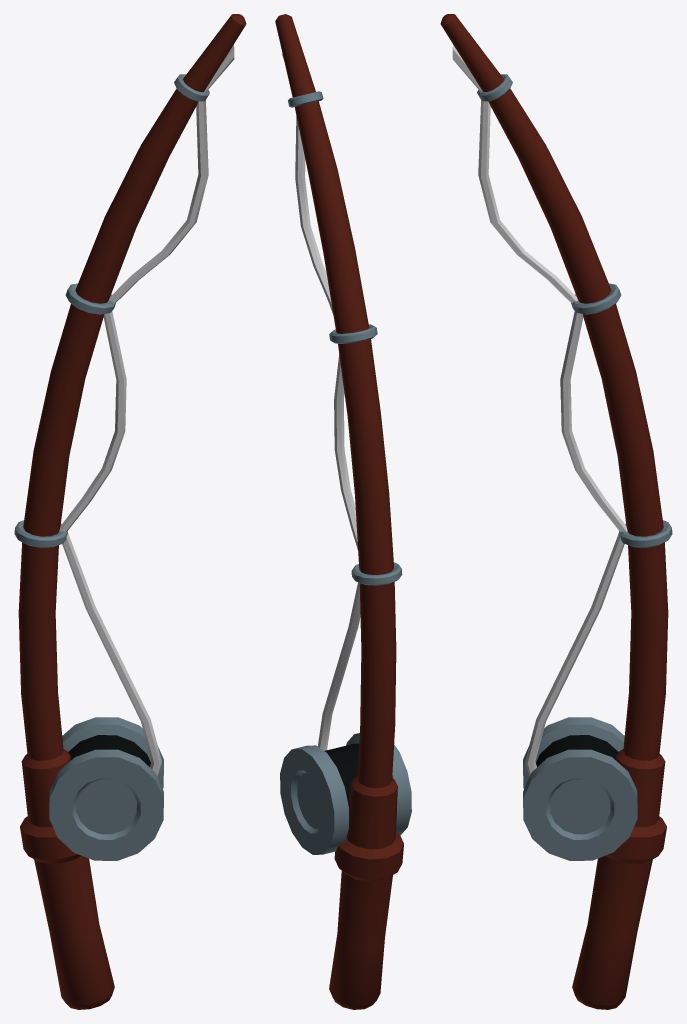
The model's file is fishingpole_rod.obj.
3 views of the same model, side by side, from view 1: azimuth 90°, elevation 25°; view 2: azimuth 210°, elevation 25°; view 3: azimuth 270°, elevation 25° (orthographic). The views are drawn at different scales.
Visible parts, largest first — view 1: fishingpole_rod_Cylinder.032; view 2: fishingpole_rod_Cylinder.032; view 3: fishingpole_rod_Cylinder.032.
Part boxes in pixels (box(x1,y1,x2,y2)): fishingpole_rod_Cylinder.032: box(14, 14, 246, 1009); fishingpole_rod_Cylinder.032: box(275, 14, 411, 1009); fishingpole_rod_Cylinder.032: box(440, 14, 672, 1009).
Bounding box in the file's own units: 0.1814 × 2.1 × 0.4449.
